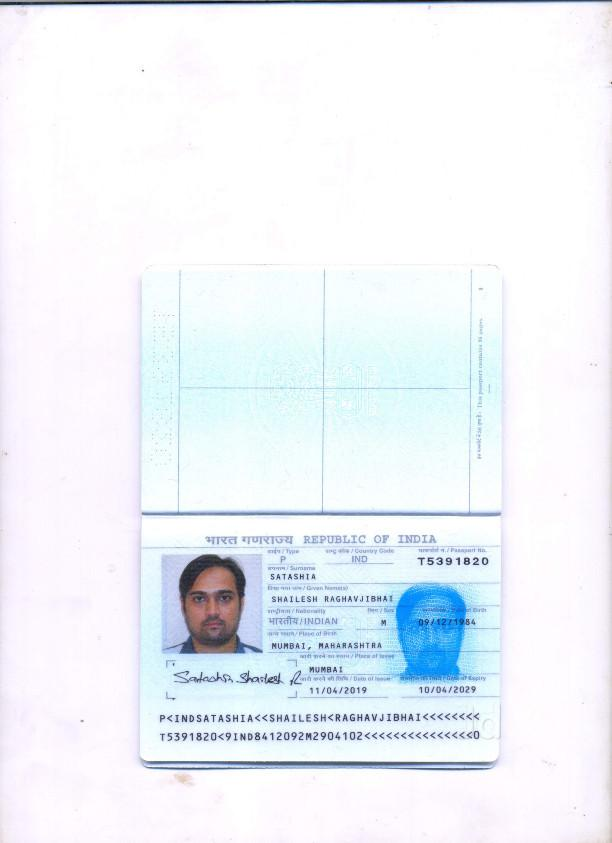DOB: (416, 616, 478, 629)
Surname: (267, 572, 322, 584)
country_code: (348, 553, 373, 566)
date_of_expiry: (415, 682, 483, 696)
date_of_issue: (309, 683, 370, 698)
details: (152, 708, 483, 747)
name: (269, 592, 396, 604)
nationality: (267, 616, 342, 627)
passport_no: (412, 554, 490, 570)
photo: (160, 552, 262, 651)
place_of_birth: (268, 640, 386, 651)
place_of_issue: (305, 663, 348, 675)
sex: (376, 616, 391, 630)
sign: (170, 667, 304, 689)
type: (275, 555, 293, 566)
